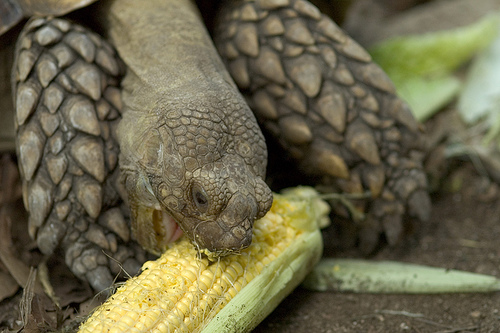corn: (79, 185, 331, 332)
